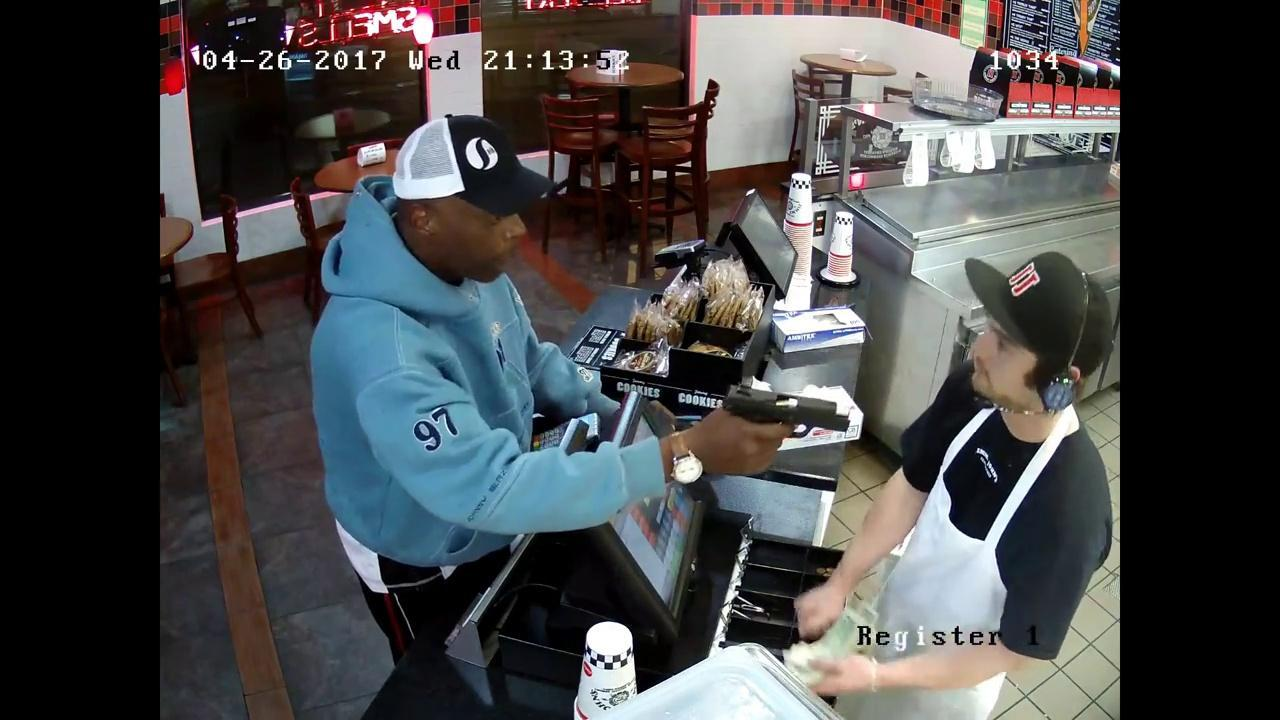Guns: (687, 366, 864, 465)
